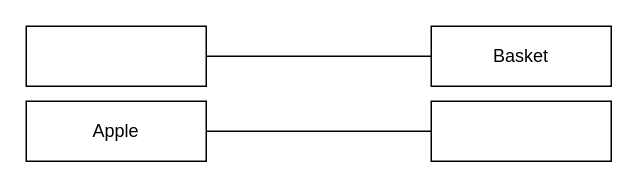
The diagram is 638 pixels wide and 188 high, and some of its shapes have lost their labels. Each missing label, with the centre of its shape:
Barrel: (520,130)
Orange: (115,55)
